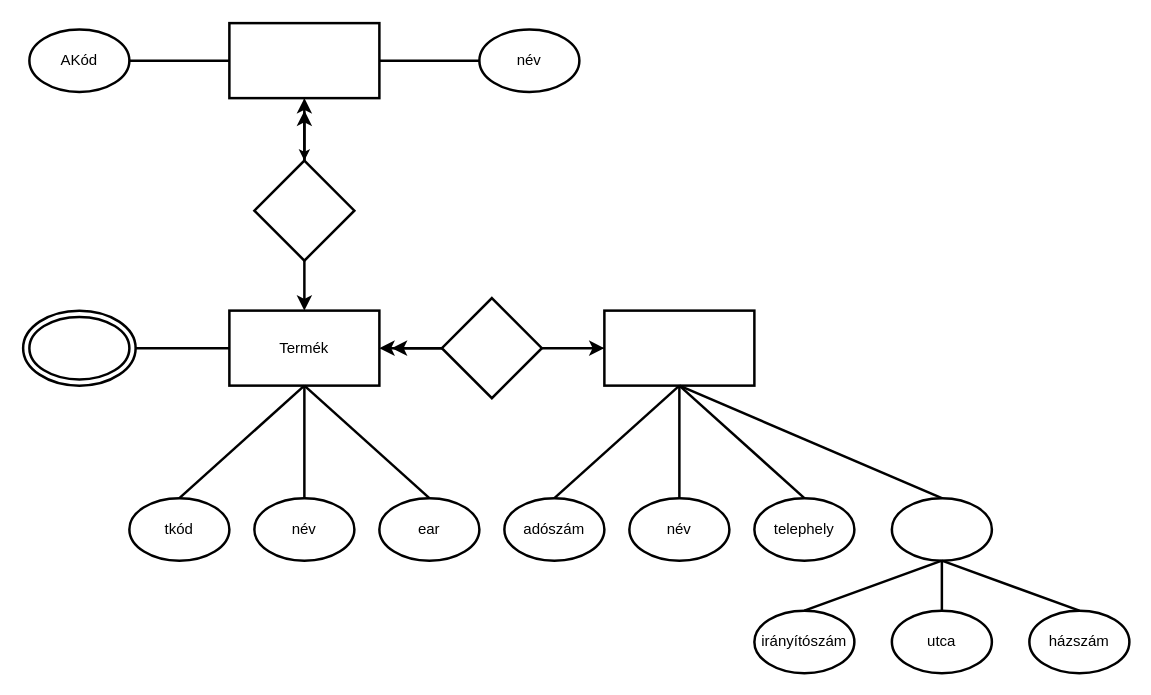
Image size: 1151x695. Some labels were removed from this diagram. The centre of each missing label's shape, as x and y in pixels:
"A-T" belongs at [303,210].
"Alkatrész" belongs at [304,60].
"egység-db" belongs at [79,347].
"Gyártó" belongs at [678,347].
"postai cím" belongs at [941,528].
"T-GY" belongs at [491,347].
